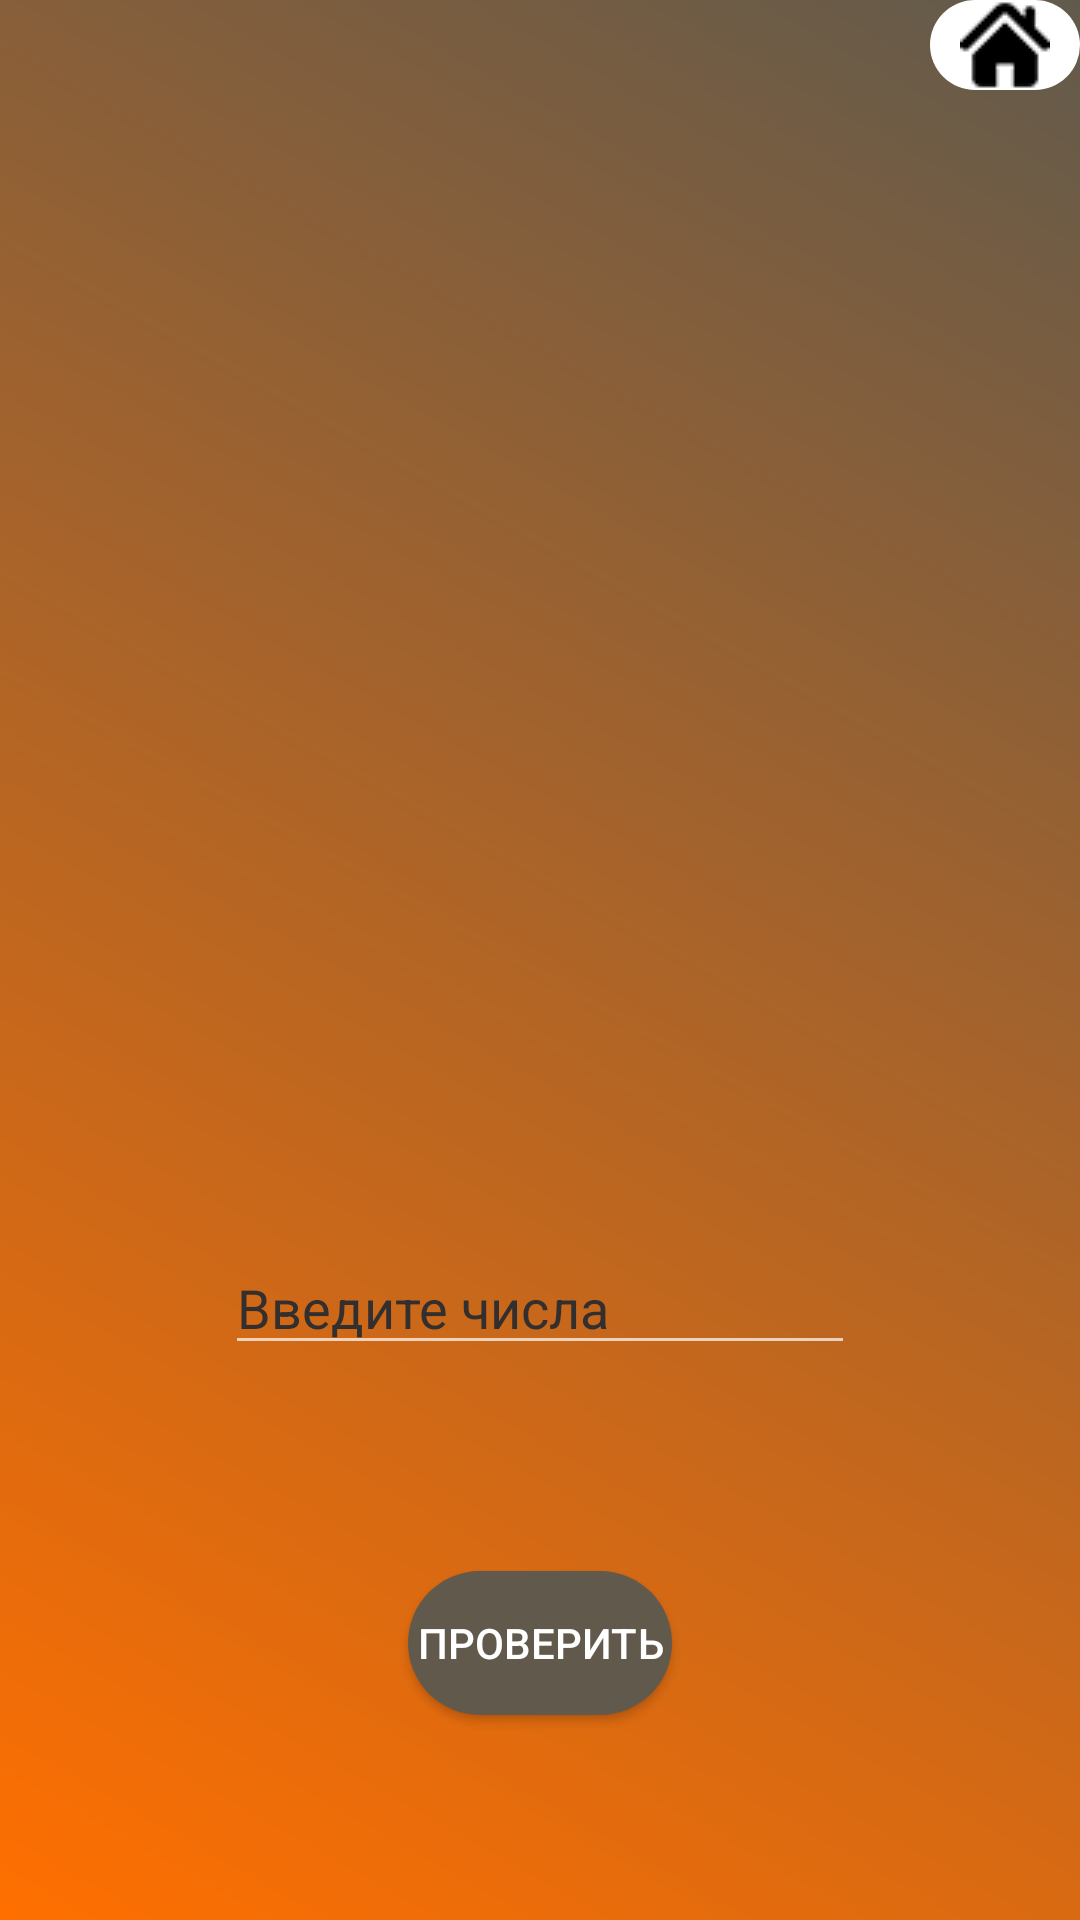

Icons on this 1080w x 1920h Android screen, each with its box as region(x1, y1, x2, y2):
Вернуться в главное меню: region(930, 0, 1080, 90)
